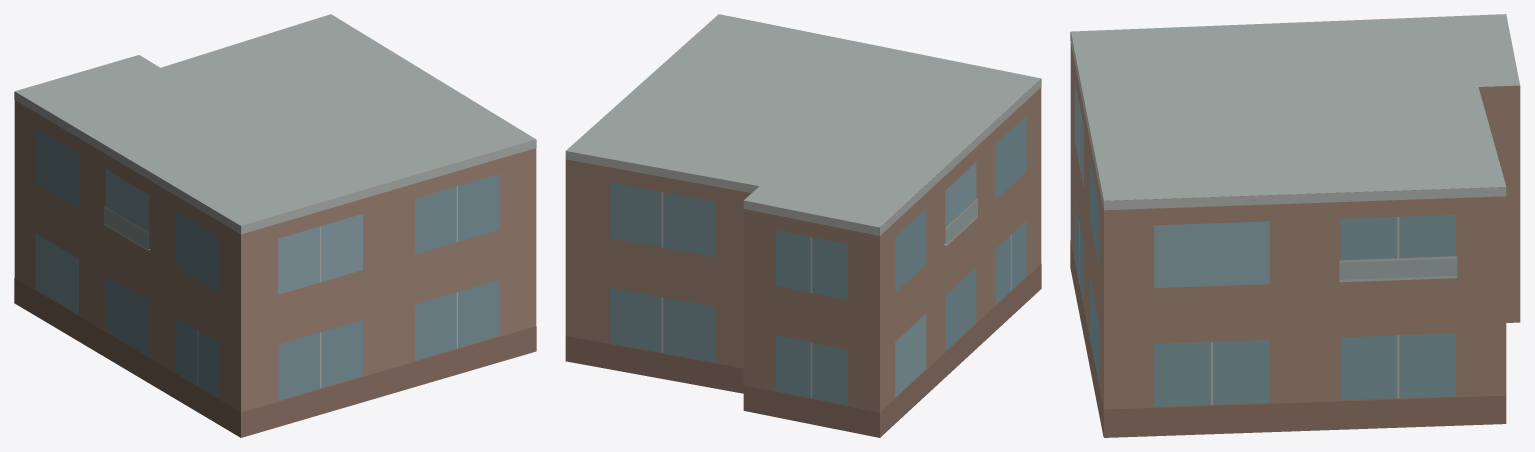
Rendered from survey-upis-32727433.glb.
3 views of the same model, side by side, from view 1: azimuth 30°, elevation 25°; view 2: azimuth 150°, elevation 25°; view 3: azimuth 270°, elevation 25° (orthographic). The views are drawn at different scales.
Visible parts, largest first — view 1: survey-upis-32727433.tmp; view 2: survey-upis-32727433.tmp; view 3: survey-upis-32727433.tmp.
Boxes of the visible parts, x1,y1,x2,y2 form: survey-upis-32727433.tmp: [14, 14, 536, 437]; survey-upis-32727433.tmp: [565, 14, 1041, 437]; survey-upis-32727433.tmp: [1070, 14, 1520, 437].
Size of the model in its own units: 10.32 by 6.1 by 10.5.
